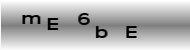6: (77, 12, 91, 26)
E: (47, 17, 60, 31), (125, 24, 137, 39)
b: (94, 25, 108, 40)
m: (20, 13, 42, 25)
